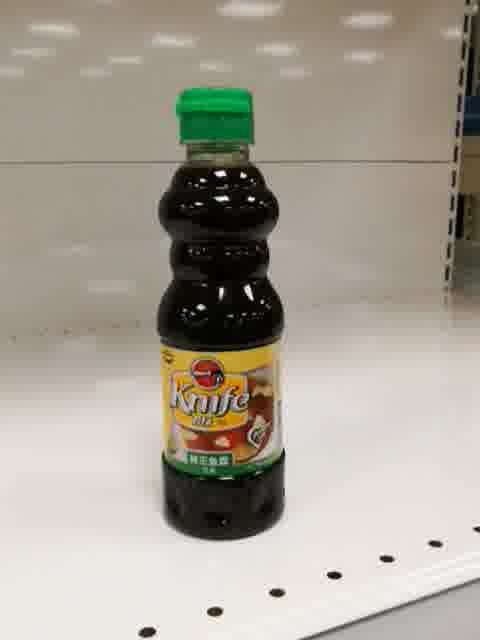cookingoil: (154, 82, 289, 545)
